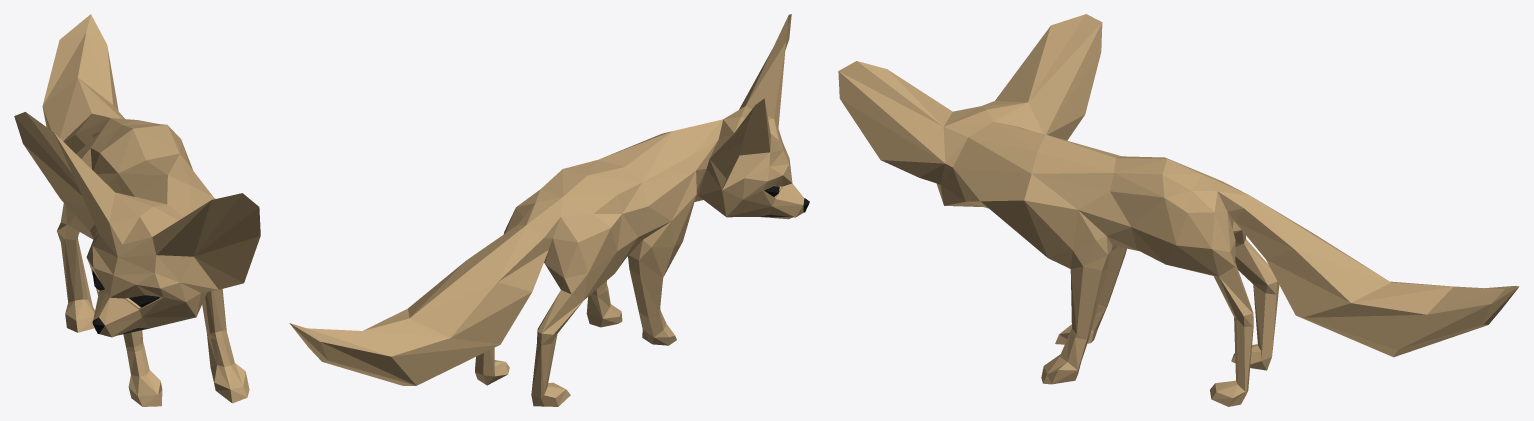
The model's file is fox1.fbx.
3 views of the same model, side by side, from view 1: azimuth 30°, elevation 25°; view 2: azimuth 150°, elevation 25°; view 3: azimuth 270°, elevation 25° (orthographic). The views are drawn at different scales.
Parts seen in each view (by area): view 1: fennec.001; view 2: fennec.001; view 3: fennec.001.
Part boxes in pixels (x1,y1,x2,y2): fennec.001: (14,14,260,406); fennec.001: (289,14,809,406); fennec.001: (838,14,1519,406).
Size of the model in its own units: 5.02 by 5 by 10.66.
